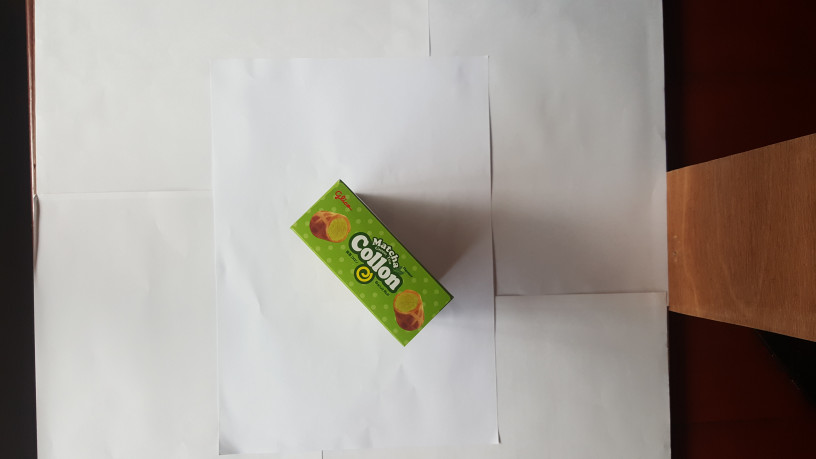collon-matcha: (289, 180, 457, 348)
